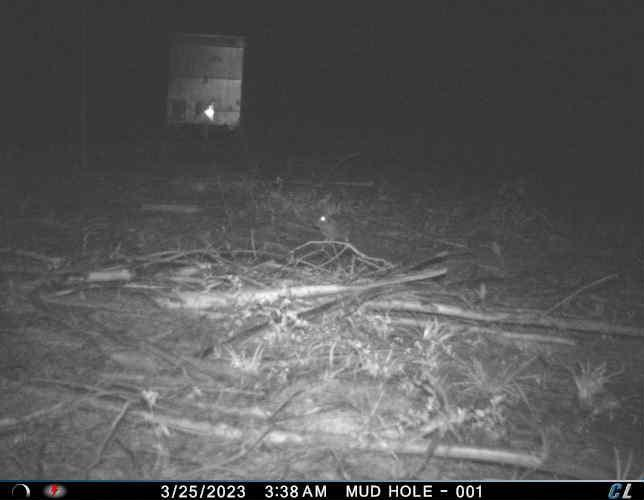Rabbit: (312, 203, 356, 251)
